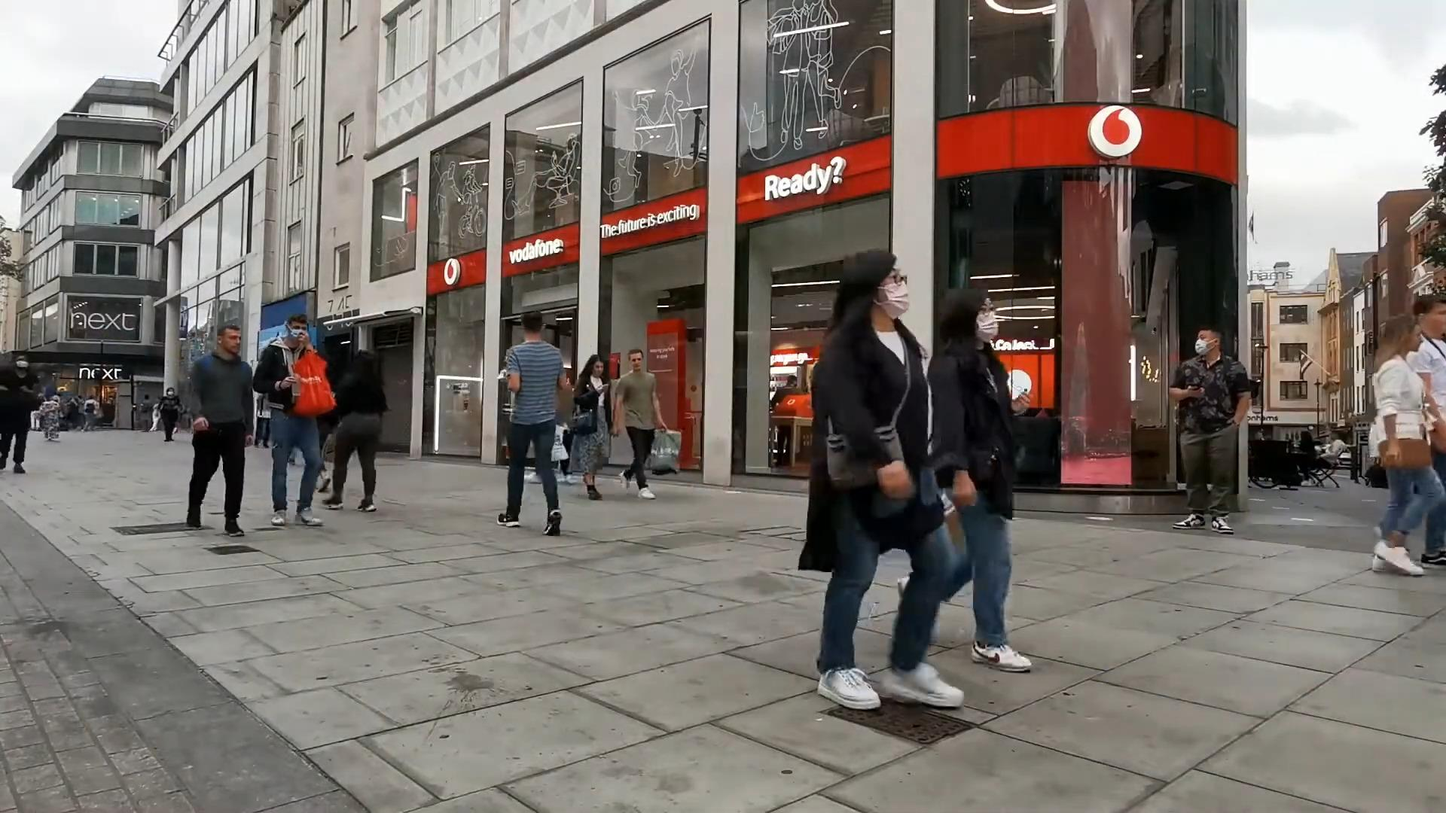no-helmet: (830, 247, 910, 322), (940, 287, 999, 345), (1381, 314, 1424, 353), (1413, 293, 1446, 334), (1195, 326, 1223, 356), (216, 324, 241, 355), (285, 313, 308, 341), (521, 311, 543, 336), (584, 354, 604, 377), (628, 348, 644, 371)
